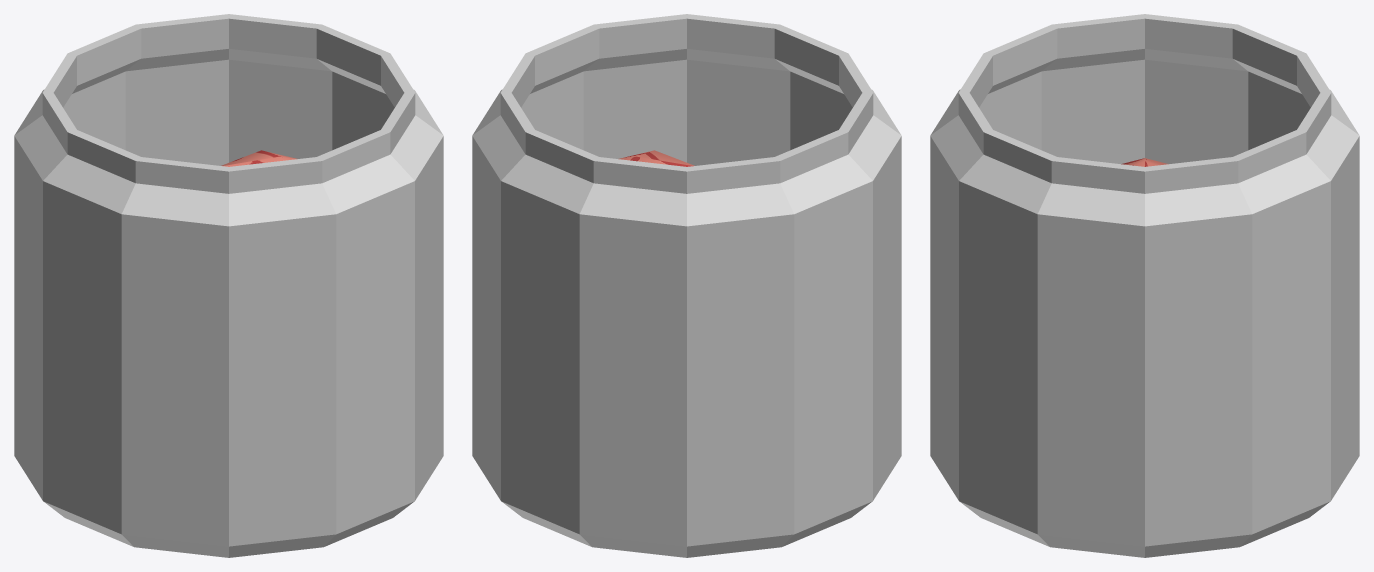
Rendered from aivolasisärkyvä.fbx.
The picture shows the model from 3 angles, left to right: view 1: azimuth 30°, elevation 25°; view 2: azimuth 150°, elevation 25°; view 3: azimuth 270°, elevation 25°; orthographic projection.
Visible parts, largest first — view 1: aivokuppi.002, aivokuppi, aivokuppi.001, aivokuppi.003, aivot; view 2: aivokuppi.002, aivokuppi, aivokuppi.001, aivokuppi.003, aivot; view 3: aivokuppi.002, aivokuppi.001, aivokuppi.003.
Part boxes in pixels (bbox=[...]): aivokuppi.002: bbox=[63, 14, 443, 436]; aivokuppi: bbox=[14, 264, 336, 557]; aivokuppi.001: bbox=[14, 53, 228, 354]; aivokuppi.003: bbox=[229, 309, 443, 546]; aivot: bbox=[221, 150, 297, 166]; aivokuppi.002: bbox=[472, 14, 852, 436]; aivokuppi: bbox=[579, 264, 901, 557]; aivokuppi.001: bbox=[687, 53, 901, 354]; aivokuppi.003: bbox=[472, 309, 686, 546]; aivot: bbox=[618, 150, 694, 166]; aivokuppi.002: bbox=[930, 53, 1359, 482]; aivokuppi.001: bbox=[979, 14, 1310, 163]; aivokuppi.003: bbox=[930, 264, 1359, 557].
Size of the model in its own units: 0.1784 by 0.1765 by 0.1784.
